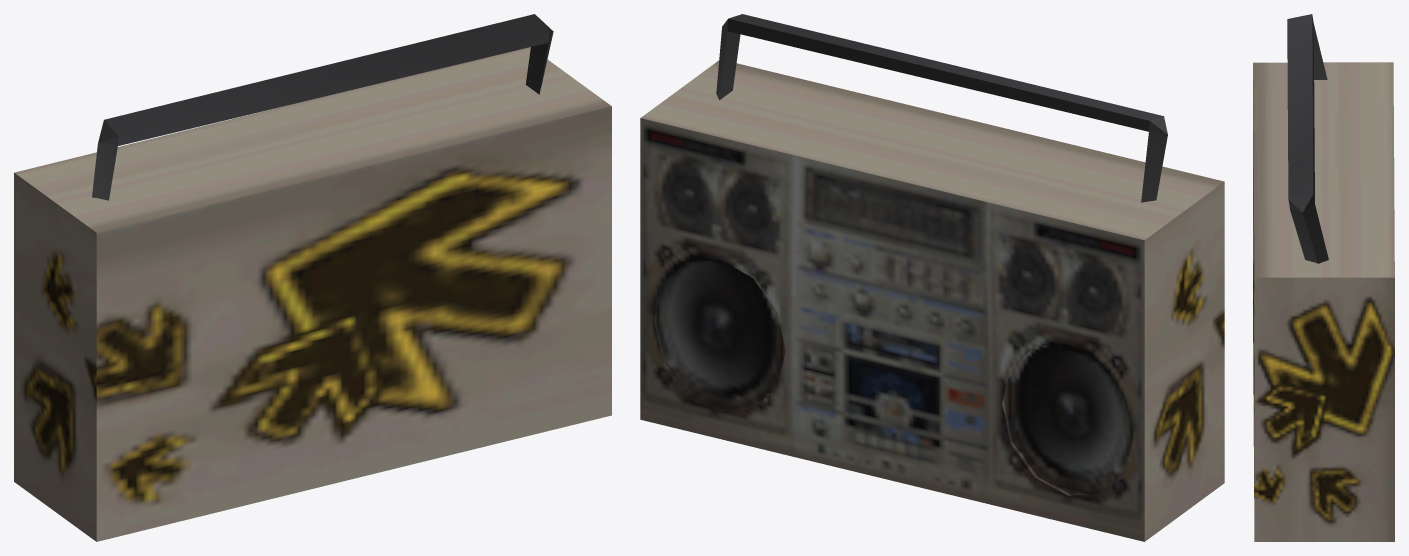
File: static.ico.obj
The picture shows the model from 3 angles, left to right: view 1: azimuth 30°, elevation 25°; view 2: azimuth 150°, elevation 25°; view 3: azimuth 270°, elevation 25°; orthographic projection. The views are drawn at different scales.
Size of the model in its own units: 4.32 by 3.09 by 1.2.
1 material, 1 textured.
